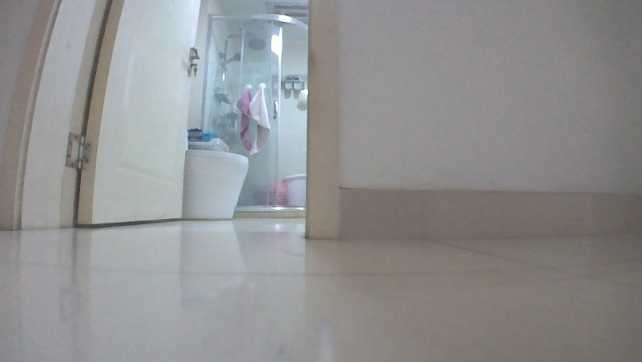door_anno: (1, 0, 202, 225)
toilet_part: (183, 148, 249, 220)
